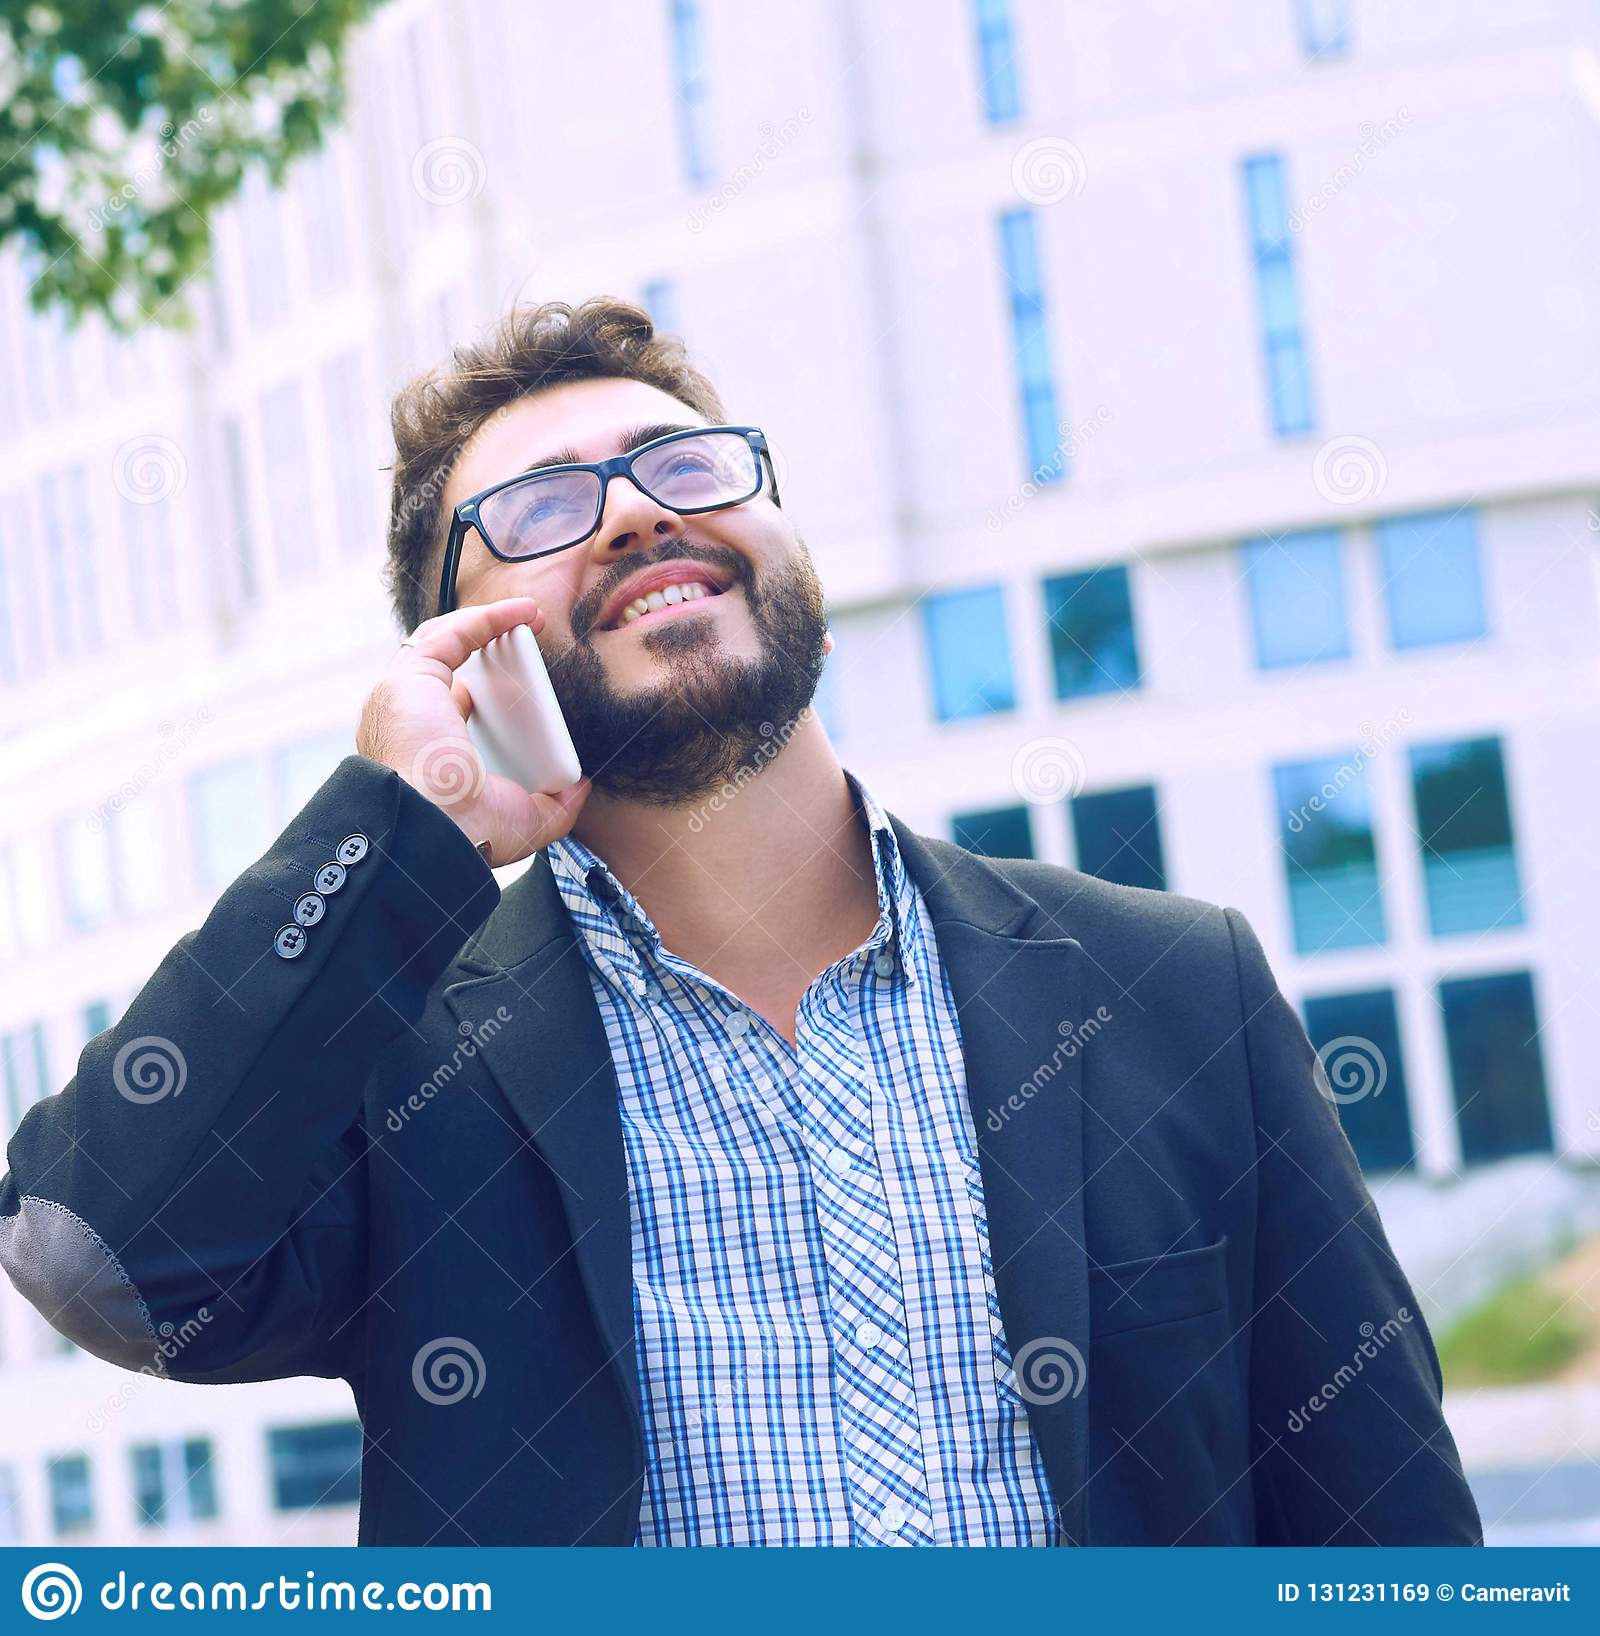phone: (431, 620, 589, 795)
talk: (340, 398, 818, 860)
